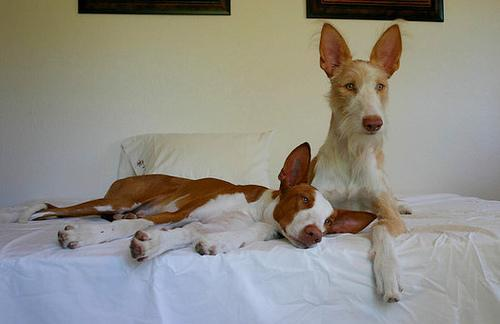Ibizan_hound: (15, 140, 375, 261), (311, 21, 414, 303)
